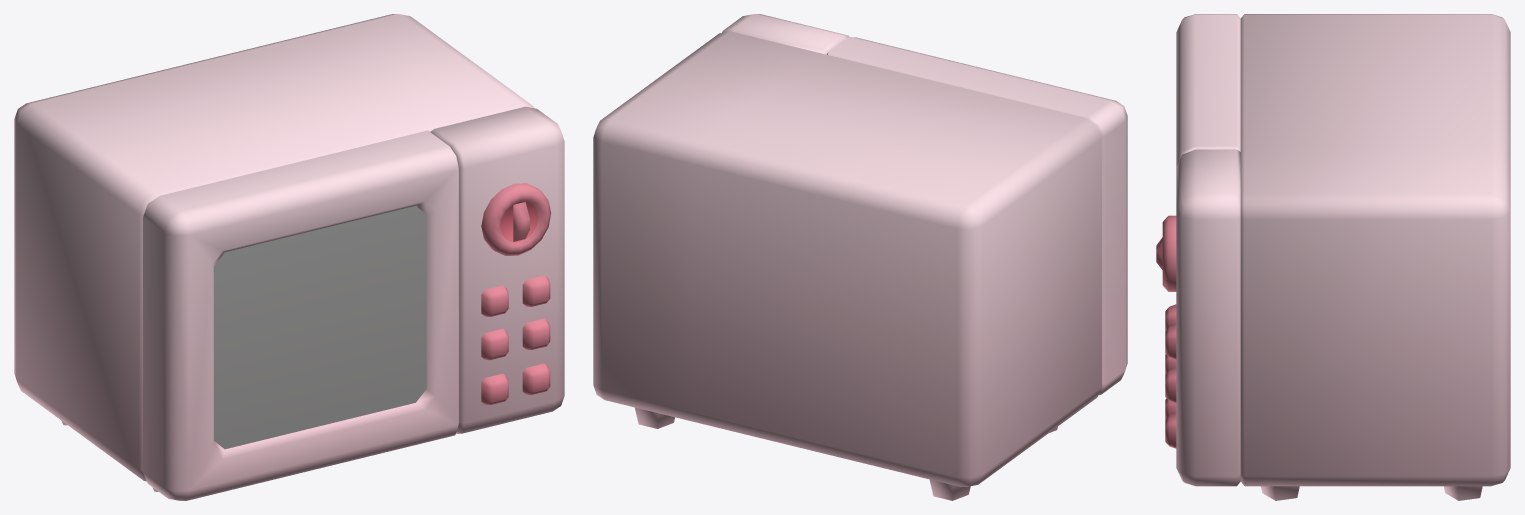
Rendered from Microwave_01.glb.
3 renders of one model, left to right at view 1: azimuth 30°, elevation 25°; view 2: azimuth 150°, elevation 25°; view 3: azimuth 270°, elevation 25°, orthographic. The views are drawn at different scales.
Visible parts, largest first — view 1: Microwave_01, Microwave_01_Door; view 2: Microwave_01, Microwave_01_Door; view 3: Microwave_01, Microwave_01_Door.
Boxes of the visible parts, bbox=[...] form: Microwave_01: bbox=[14, 14, 564, 491]; Microwave_01_Door: bbox=[143, 130, 459, 500]; Microwave_01: bbox=[593, 14, 1101, 500]; Microwave_01_Door: bbox=[827, 37, 1127, 395]; Microwave_01: bbox=[1156, 14, 1510, 500]; Microwave_01_Door: bbox=[1176, 14, 1240, 166].
Size of the model in its own units: 0.4289 by 0.3219 by 0.3281.
Materials: 1 (1 with a texture image).
